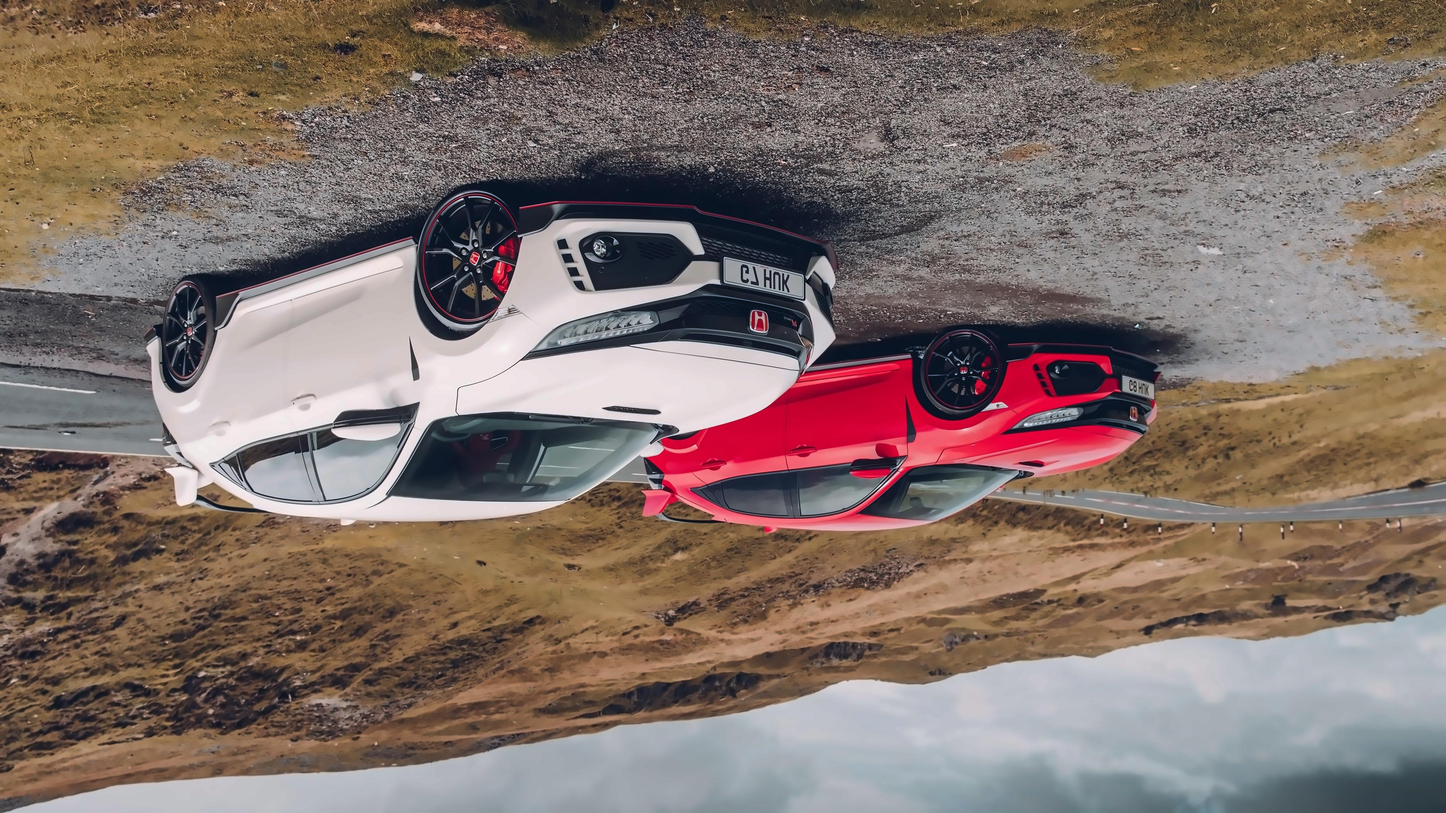Car hood: (451, 336, 820, 437), (925, 420, 1145, 480)
Fender - -F-L-: (392, 260, 554, 436), (898, 364, 1025, 462)
Fender - -R-L-: (146, 332, 263, 483), (650, 420, 736, 510)
Front bumper: (503, 199, 845, 378), (990, 340, 1162, 435)
Headlight - -L-: (525, 306, 661, 362), (1004, 398, 1085, 431)
Passenger-s door - -F-L-: (286, 219, 428, 529), (784, 338, 916, 536)
Passenger-s door - -R-L-: (190, 229, 329, 532), (674, 368, 818, 543)
Rear bumper: (142, 329, 169, 423)
Side bumper - -L-: (194, 225, 426, 368), (776, 349, 922, 411)
Side mirror - -L-: (333, 401, 406, 442), (851, 455, 900, 483)
